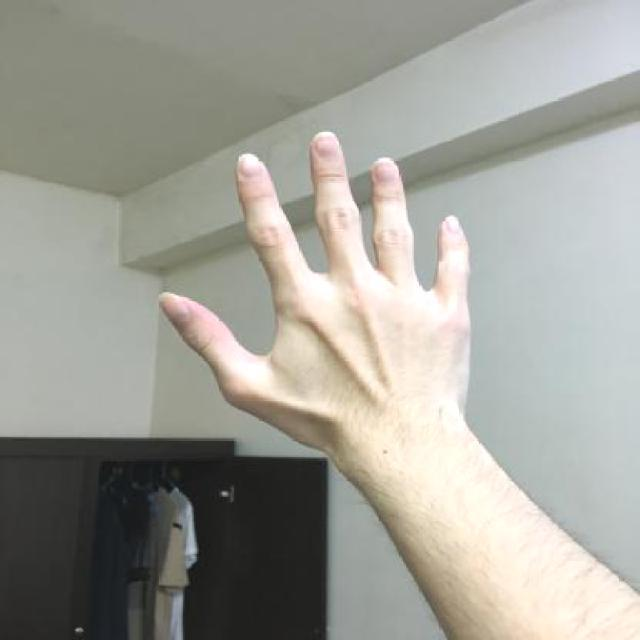hand: (147, 120, 484, 506)
